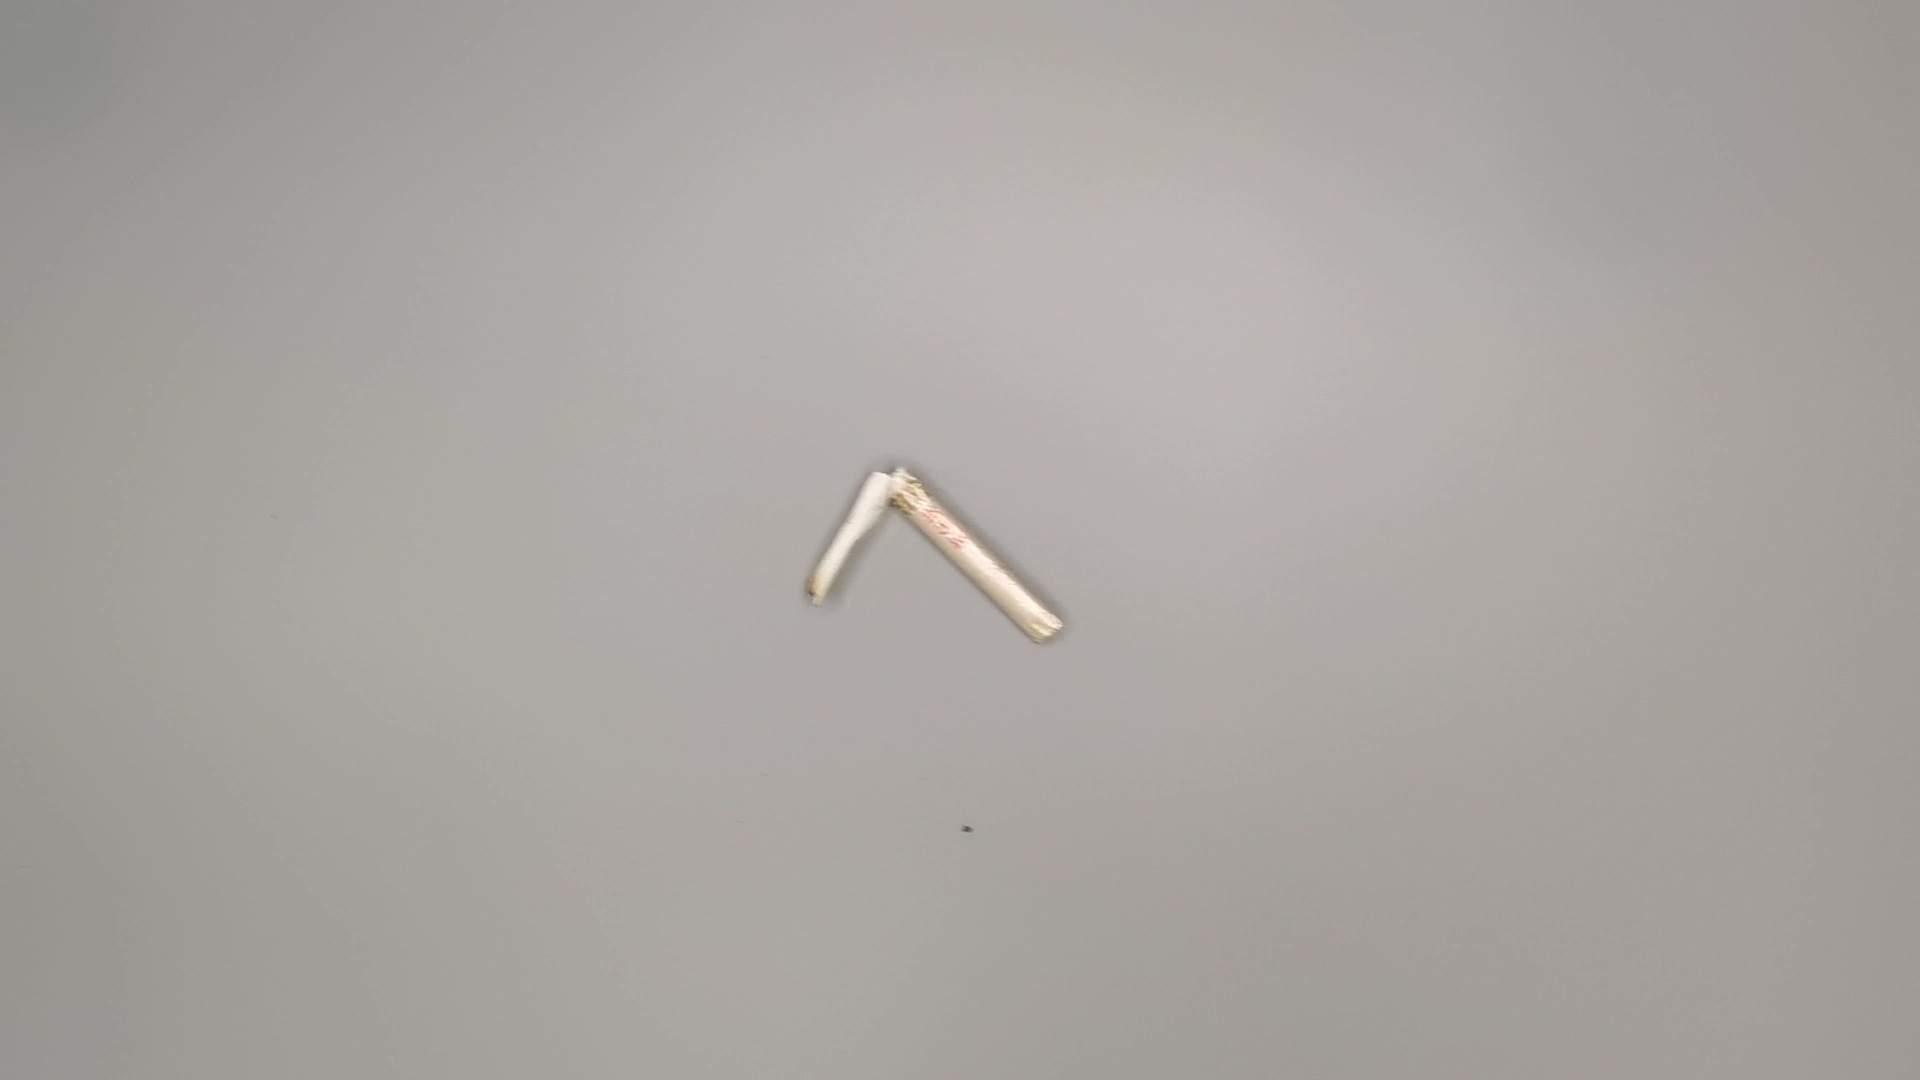cigarette: (789, 458, 1065, 657)
